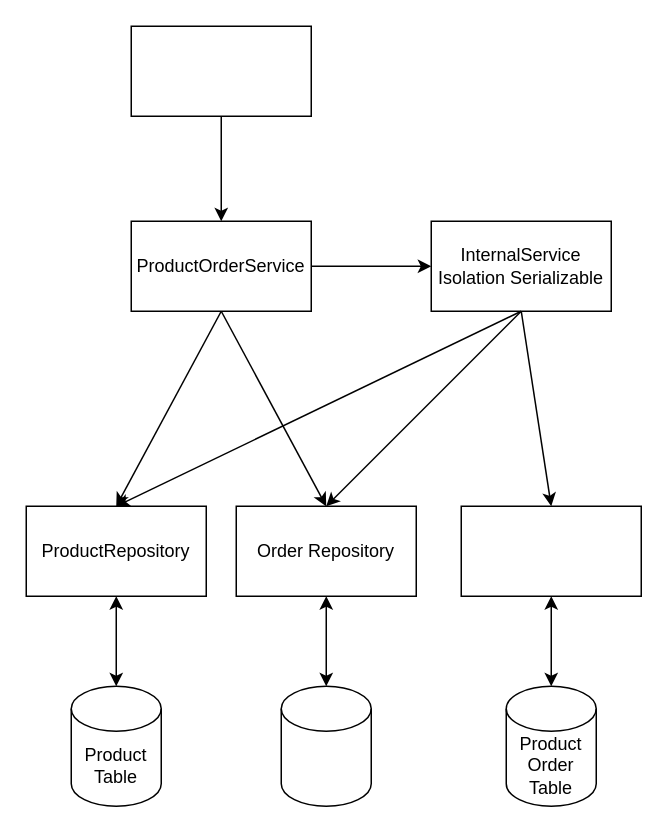
The diagram is 668 pixels wide and 833 high, and some of its shapes have lost their labels. The shapes that lost their labels are listed below. From the top down, each one's centre as x and y in pixels, then its label:
At (220,70): "*Controller".
At (550,550): "Product Order Repository".
At (325,745): "Order Table".
